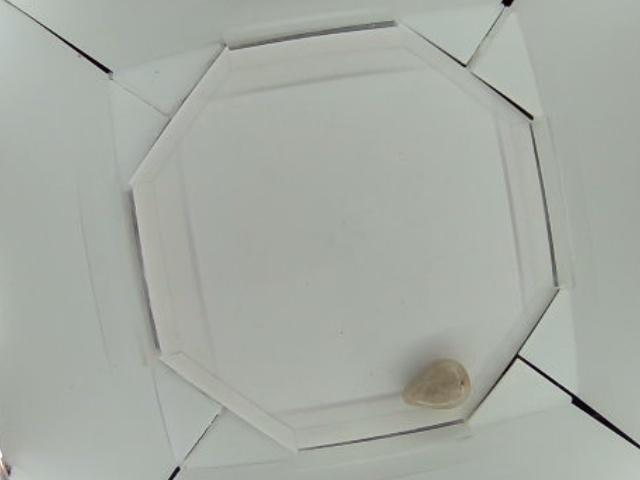Pebble: (399, 357, 470, 408)
